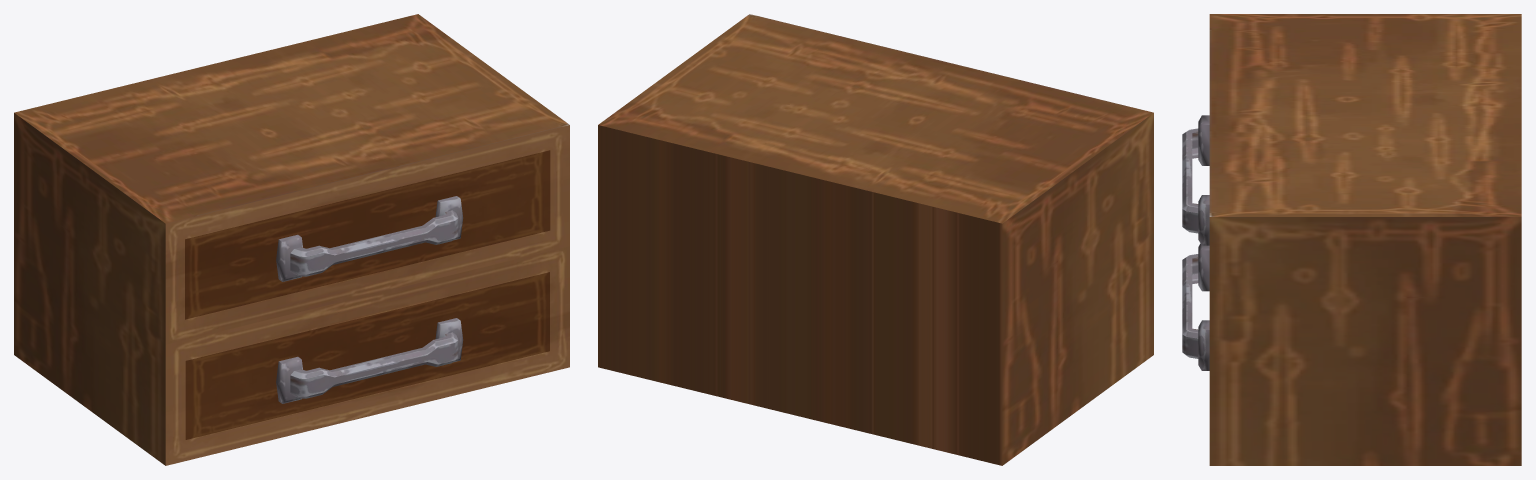
Rendered from Workbench_Drawers.gltf.
The picture shows the model from 3 angles, left to right: view 1: azimuth 30°, elevation 25°; view 2: azimuth 150°, elevation 25°; view 3: azimuth 270°, elevation 25°; orthographic projection. The views are drawn at different scales.
Parts seen in each view (by area): view 1: Workbench_Drawers; view 2: Workbench_Drawers; view 3: Workbench_Drawers.
Part boxes in pixels (x1,y1,x2,y2): Workbench_Drawers: (14,14,569,465); Workbench_Drawers: (598,14,1153,465); Workbench_Drawers: (1182,14,1521,465).
Bounding box in the file's own units: 0.4231 × 0.2423 × 0.299.
2 materials, 2 textured.
